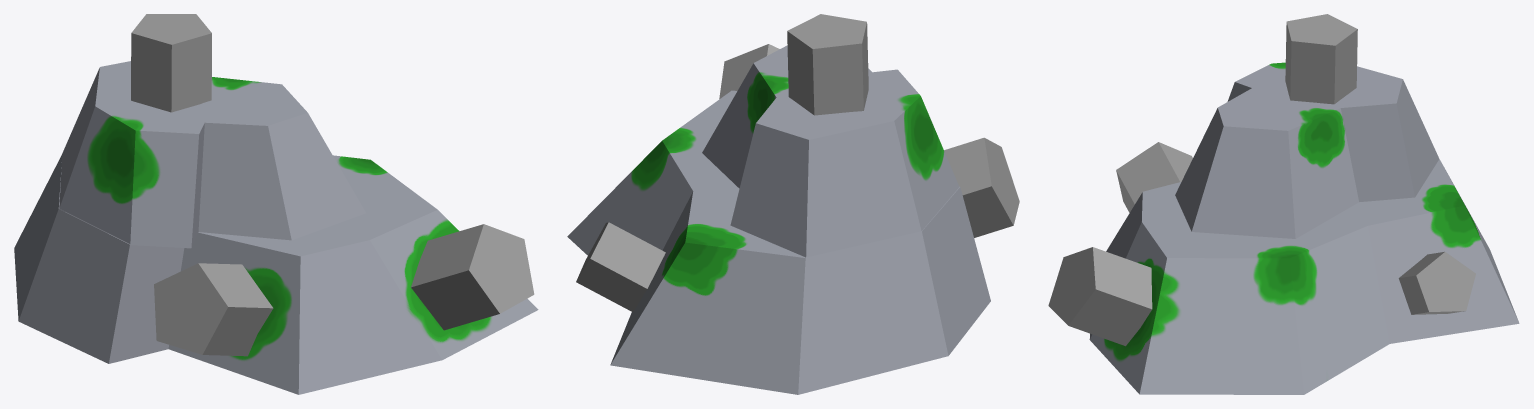
File: HierroMusgo1.fbx
3 renders of one model, left to right at view 1: azimuth 30°, elevation 25°; view 2: azimuth 150°, elevation 25°; view 3: azimuth 270°, elevation 25°, orthographic. The views are drawn at different scales.
Parts seen in each view (by area): view 1: base.036, hierro.017, hierro.016, hierro.019; view 2: base.036, hierro.019, hierro.016, hierro.018, hierro.017; view 3: base.036, hierro.017, hierro.019, hierro.018, hierro.016.
Part boxes in pixels (x1,y1,x2,y2): base.036: (14,61,538,394); hierro.017: (411,224,534,330); hierro.016: (154,263,273,356); hierro.019: (131,14,211,112); base.036: (567,45,990,394); hierro.019: (787,14,868,115); hierro.016: (944,137,1019,237); hierro.018: (576,222,665,311); hierro.017: (719,44,779,98); base.036: (1089,62,1519,394); hierro.017: (1048,247,1152,346); hierro.019: (1285,14,1357,104); hierro.018: (1398,251,1475,314); hierro.016: (1116,142,1192,212).
Size of the model in its own units: 133 by 86.37 by 149.
